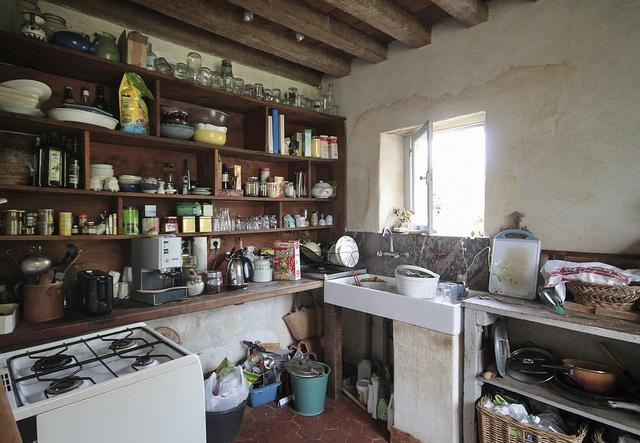Rak: (0, 26, 346, 239)
